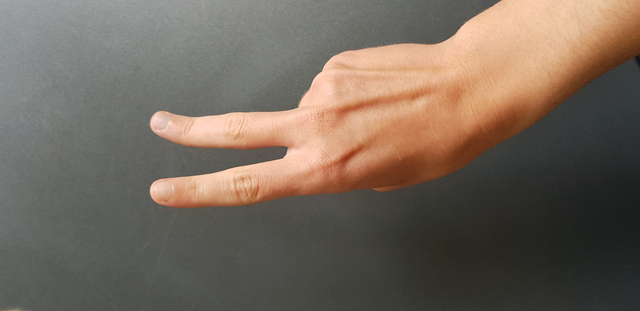Scissors: (129, 37, 503, 223)
